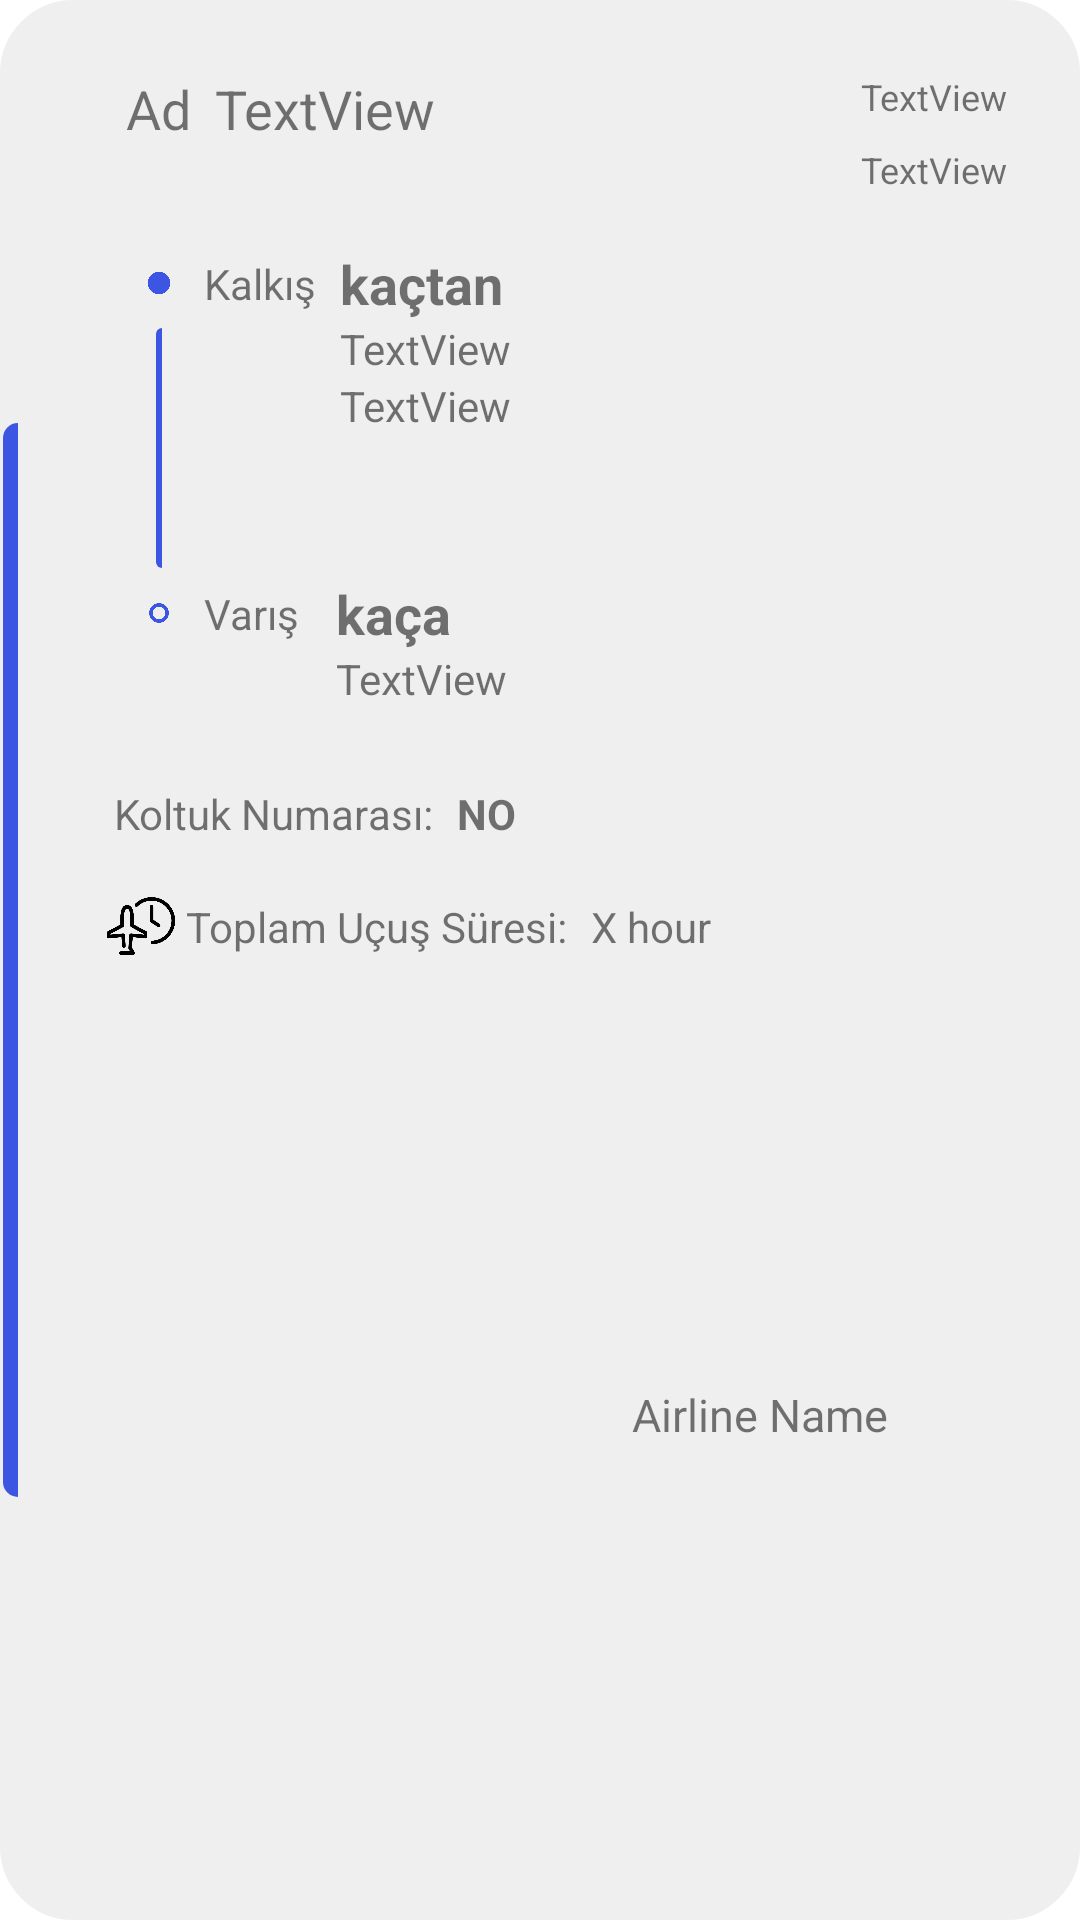

Icon click points for this 1080*1920 phone screenshot, format point (x, y):
time: point (141, 926)
